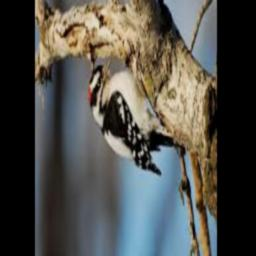Woodpecker: (89, 55, 180, 176)
